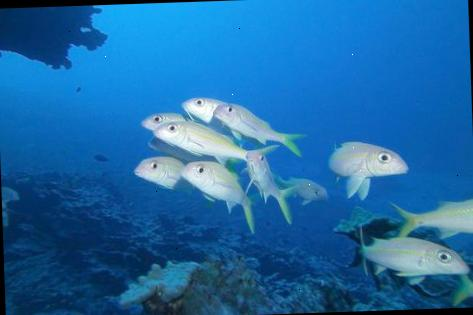fish: (354, 224, 470, 286), (151, 118, 280, 170), (212, 100, 306, 161), (182, 160, 256, 236), (324, 140, 410, 202), (244, 149, 298, 225), (388, 198, 473, 243), (274, 174, 328, 206), (132, 155, 181, 190), (180, 95, 223, 126)
